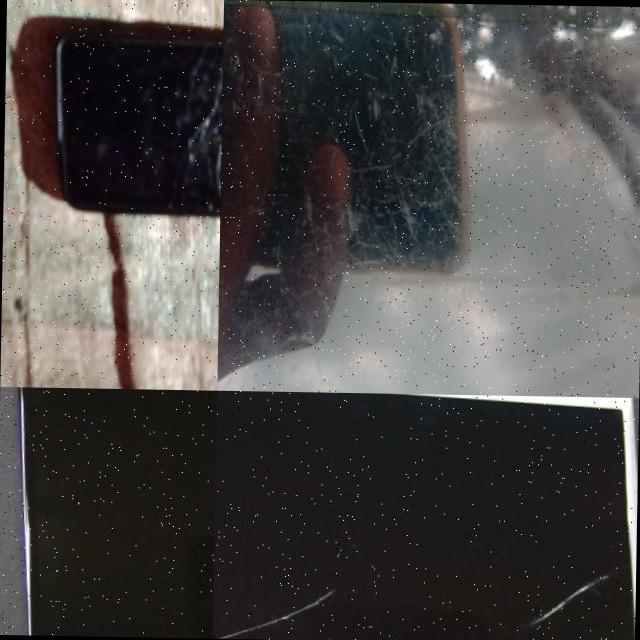scratch: (227, 102, 505, 394), (211, 571, 349, 640), (527, 562, 614, 622)
screen crack: (431, 2, 640, 102), (176, 22, 222, 228)
